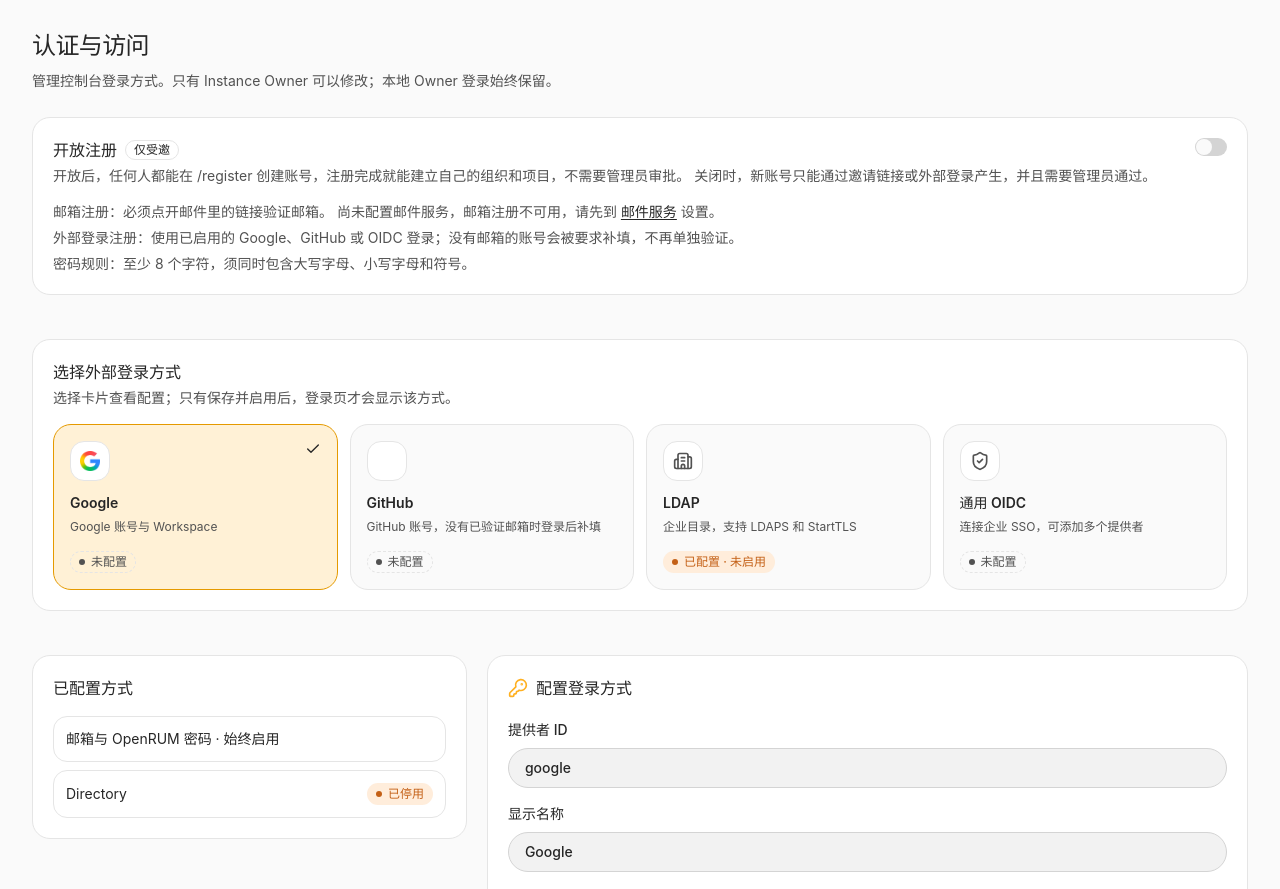
Scenario: Instance authentication settings › allows a saved disabled provider to be tested before enabling it
Click the button "Directory 已停用" at x=96, y=794, box [53,770,446,818]
(page scrolled)
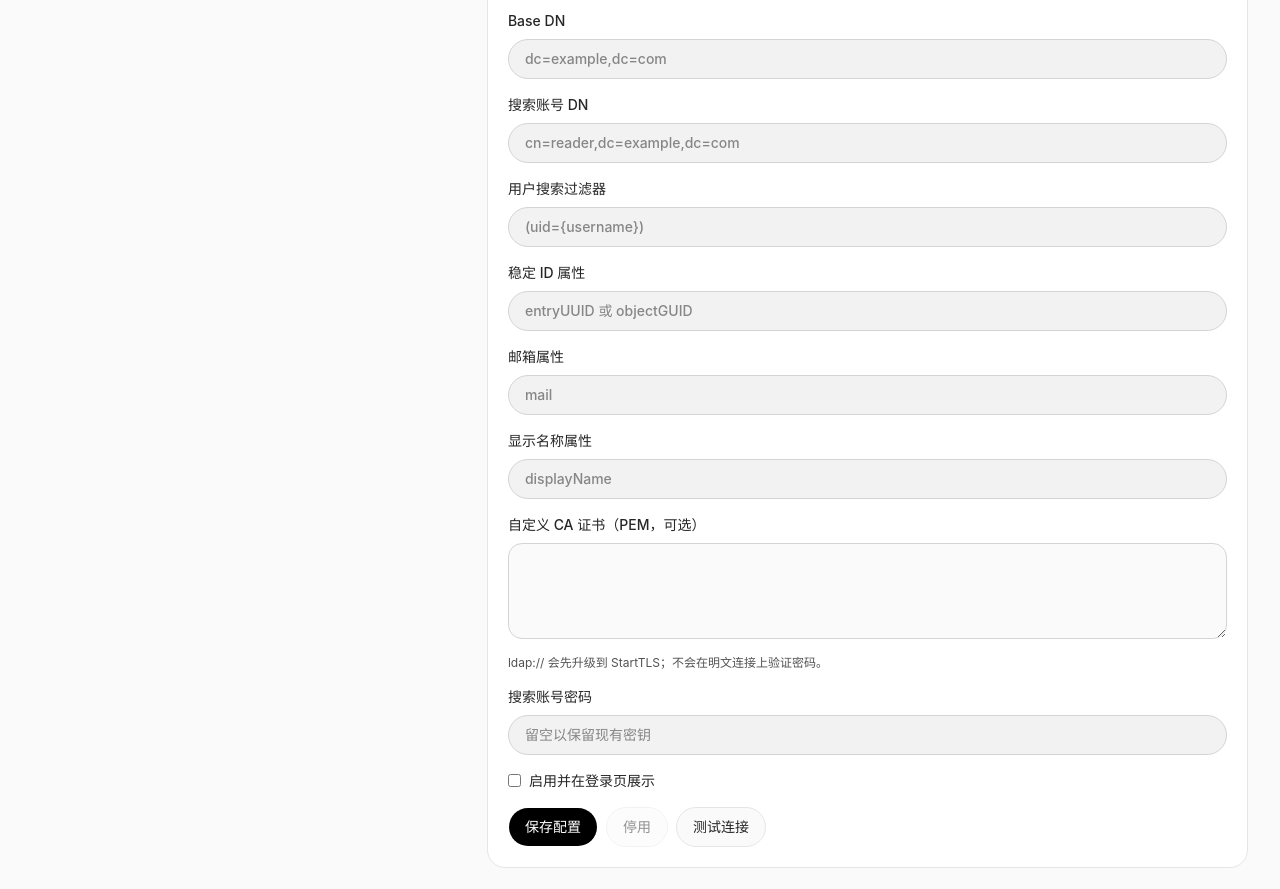
Click the button "测试连接" at x=721, y=827, box [676,807,766,847]
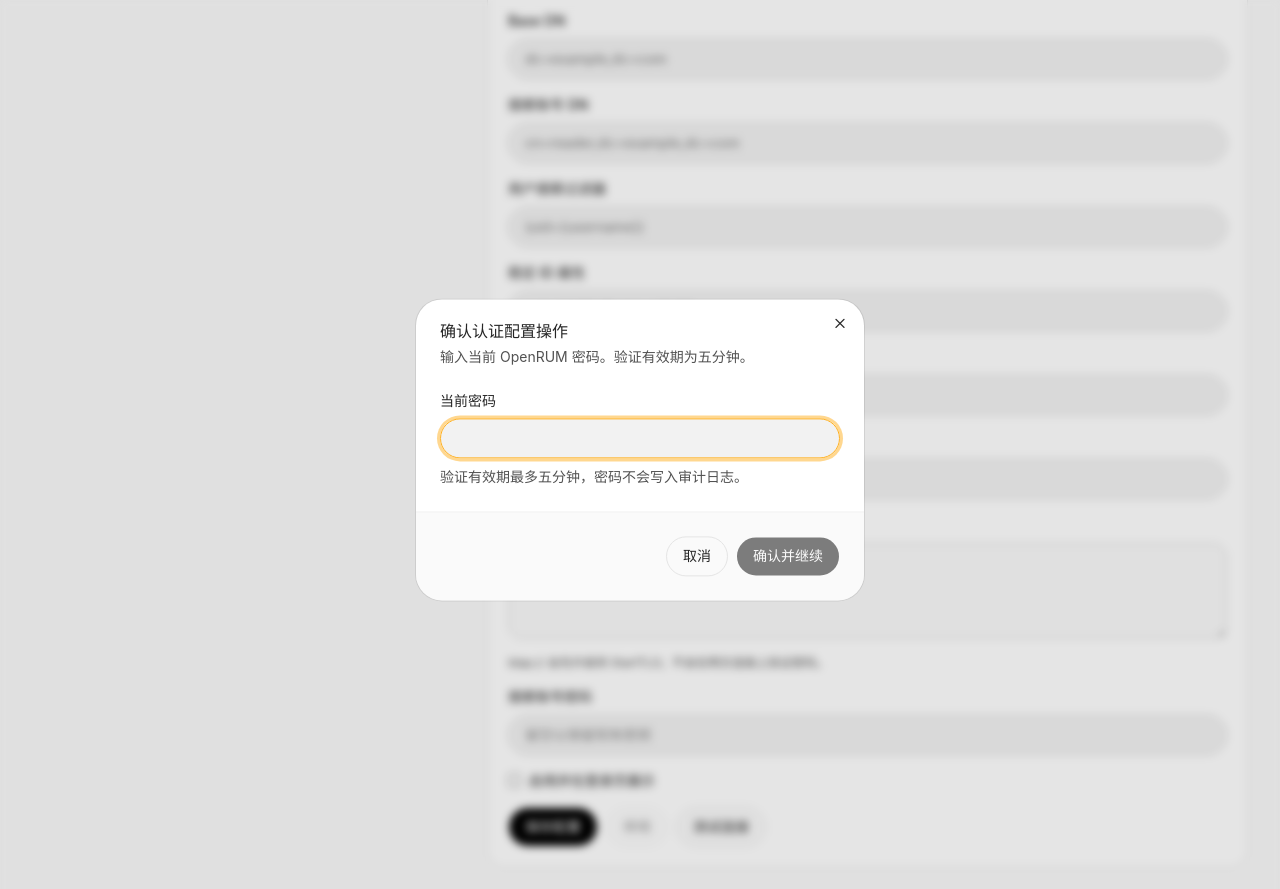
Type "owner-password" into the password field labelled "当前密码" at x=640, y=439, box [440,419,840,459]
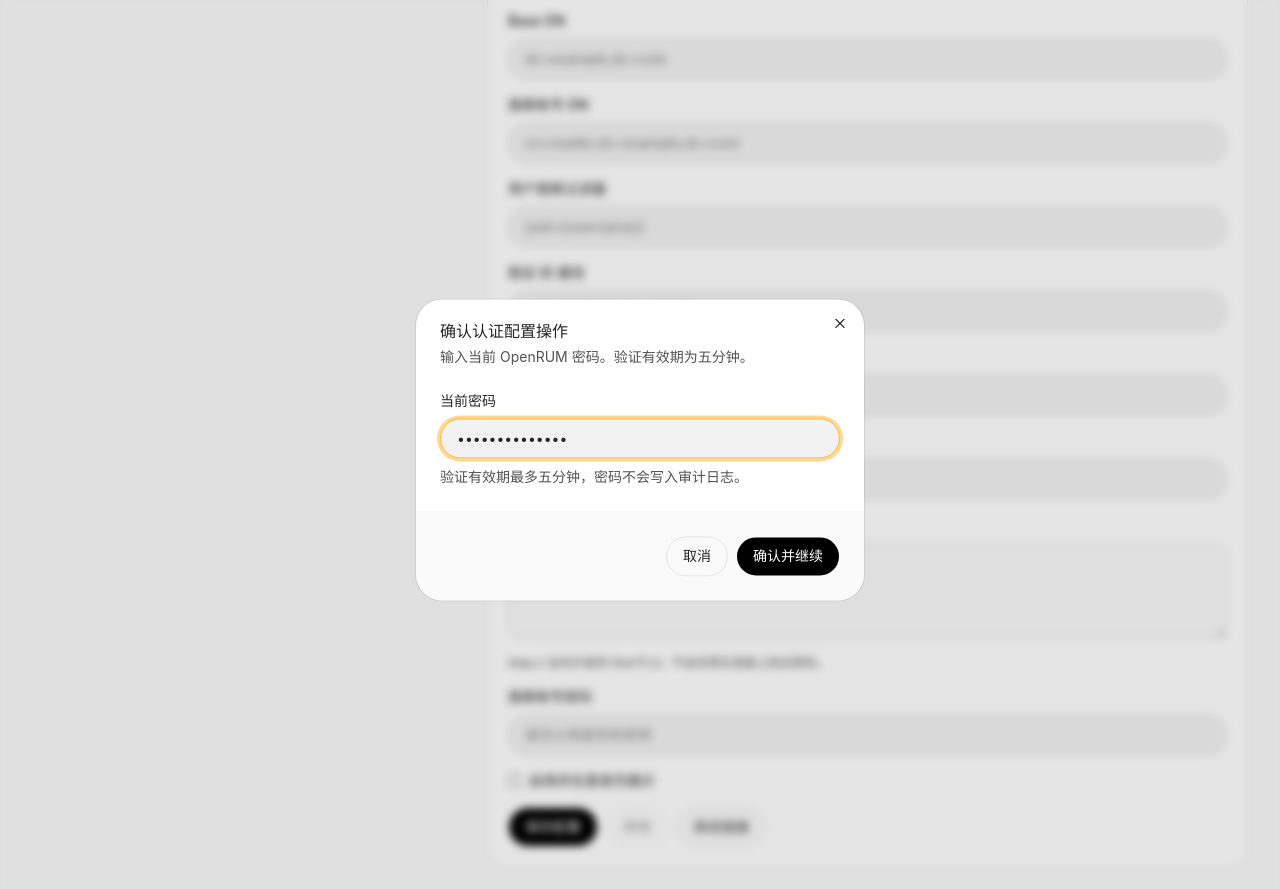
Click the button "确认并继续" at x=788, y=557, box [736,537,840,577]
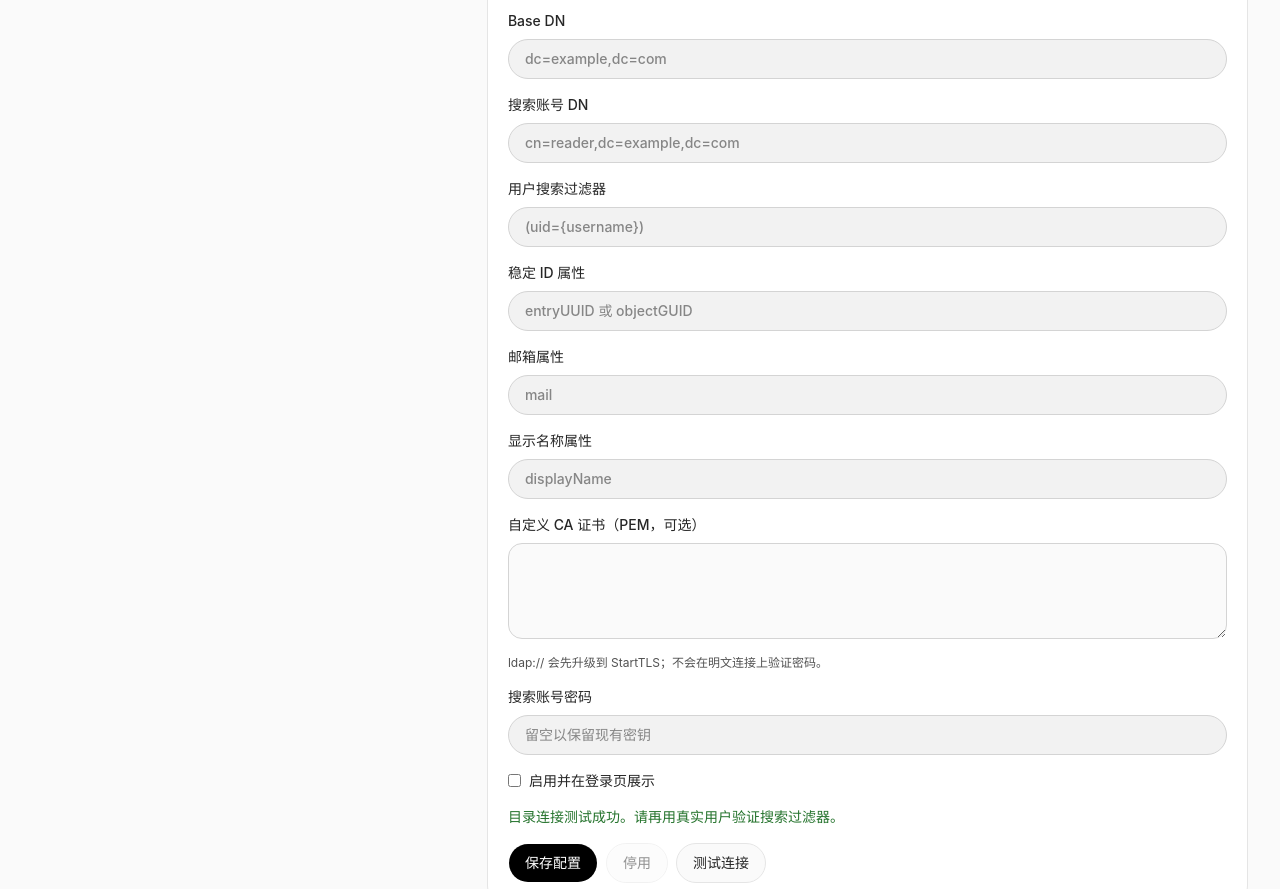
Result: the text "目录连接测试成功。请再用真实用户验证搜索过滤器。" is shown at [508,808,844,825]
